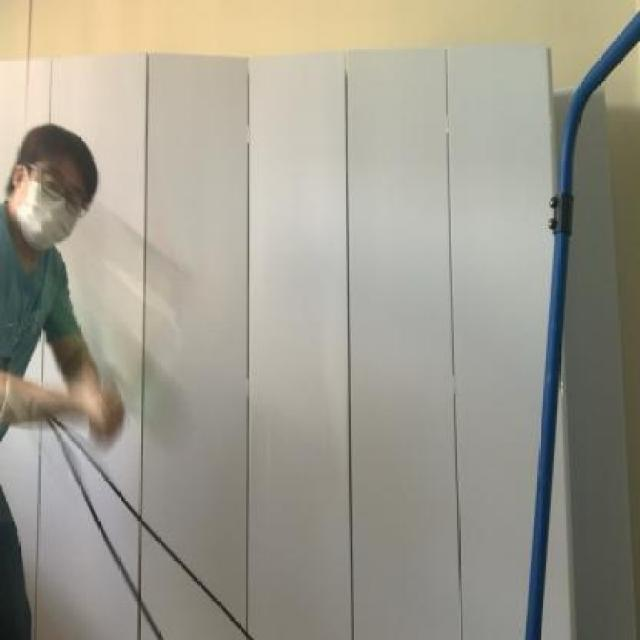baseball: (108, 331, 180, 446)
